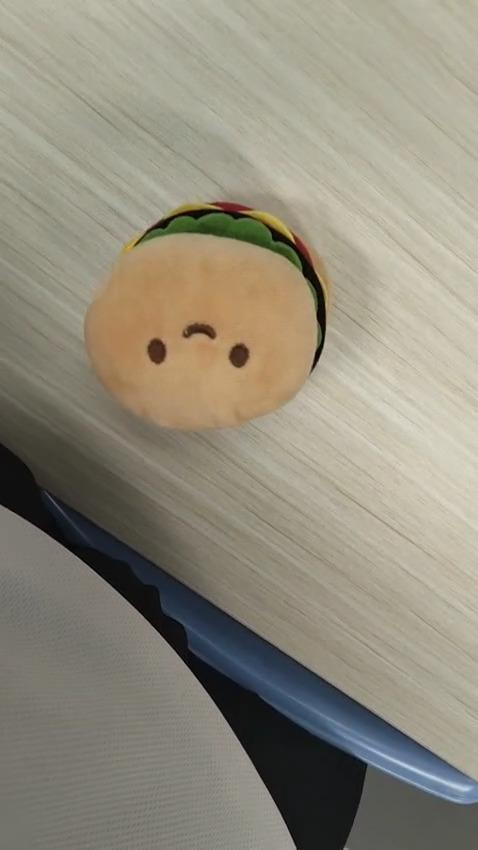hamburger: (87, 196, 335, 436)
